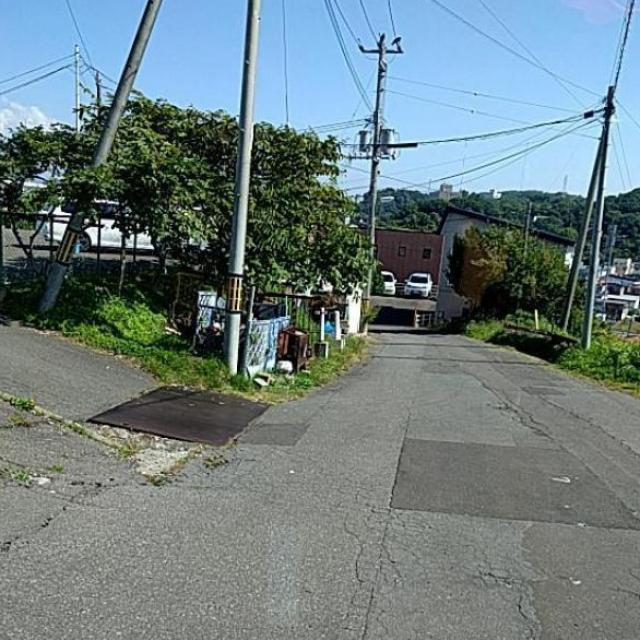Sambungan: (386, 435, 636, 527)
